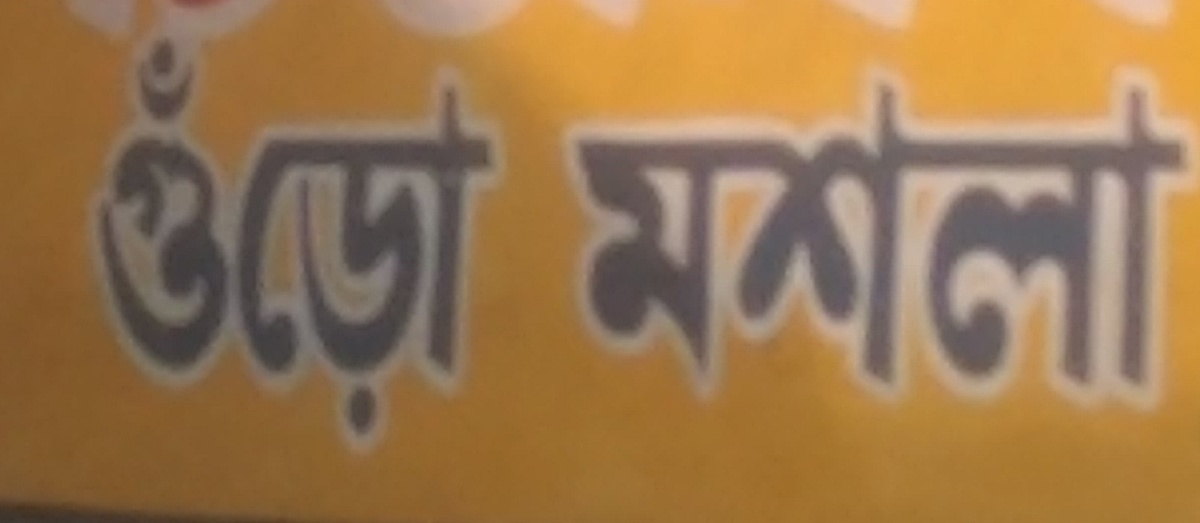text: (97, 26, 112, 460), (113, 26, 128, 460), (129, 26, 144, 460), (145, 26, 160, 460), (161, 26, 176, 460), (177, 26, 192, 460), (193, 26, 208, 460), (209, 26, 224, 460), (225, 26, 240, 460), (241, 26, 256, 460), (257, 26, 272, 460), (273, 26, 288, 460), (289, 26, 304, 460), (305, 26, 320, 460), (321, 26, 336, 460), (337, 26, 352, 460), (353, 26, 368, 460), (369, 26, 384, 460), (385, 26, 400, 460), (401, 26, 416, 460), (417, 26, 432, 460), (433, 26, 448, 460), (449, 26, 464, 460), (465, 26, 480, 460), (481, 26, 496, 460), (497, 26, 512, 460), (561, 52, 576, 425), (577, 52, 592, 425), (593, 52, 608, 425), (609, 52, 624, 425), (625, 52, 640, 425), (641, 52, 656, 425), (657, 52, 672, 425), (673, 52, 688, 425), (689, 52, 704, 425), (705, 52, 720, 425), (721, 52, 736, 425), (737, 52, 752, 425), (753, 52, 768, 425), (769, 52, 784, 425), (785, 52, 800, 425), (801, 52, 816, 425), (817, 52, 832, 425), (833, 52, 848, 425), (849, 52, 864, 425), (865, 52, 880, 425), (881, 52, 896, 425), (897, 52, 912, 425), (913, 52, 928, 425), (929, 52, 944, 425), (945, 52, 960, 425), (961, 52, 976, 425), (977, 52, 992, 425), (993, 52, 1008, 425), (1009, 52, 1024, 425), (1025, 52, 1040, 425), (1041, 52, 1056, 425), (1057, 52, 1072, 425), (1073, 52, 1088, 425), (1089, 52, 1104, 425), (1105, 52, 1120, 425), (1121, 52, 1136, 425), (1137, 52, 1152, 425), (1153, 52, 1168, 425), (1169, 52, 1184, 425), (1185, 52, 1199, 425), (87, 26, 96, 460), (552, 52, 560, 425), (65, 1, 80, 54), (81, 1, 96, 54), (97, 1, 112, 54), (113, 1, 128, 54), (129, 1, 144, 54), (145, 1, 160, 54), (161, 1, 176, 54), (177, 1, 192, 54), (193, 1, 208, 54), (209, 1, 224, 54), (225, 1, 240, 54), (241, 1, 256, 54), (257, 1, 272, 54), (273, 1, 288, 54), (385, 1, 400, 47), (401, 1, 416, 47), (417, 1, 432, 47), (433, 1, 448, 47), (449, 1, 464, 47), (465, 1, 480, 47), (481, 1, 496, 47), (497, 1, 512, 47), (513, 1, 527, 47), (52, 1, 64, 54), (577, 1, 592, 43), (593, 1, 608, 43), (609, 1, 624, 43), (625, 1, 640, 43), (833, 1, 848, 39), (849, 1, 864, 39), (865, 1, 880, 39), (881, 1, 896, 39), (897, 1, 912, 39), (913, 1, 928, 39), (1169, 1, 1185, 34), (1089, 1, 1104, 34), (1105, 1, 1120, 34), (1121, 1, 1136, 34), (1137, 1, 1152, 34), (1153, 1, 1168, 34), (513, 26, 514, 460), (567, 1, 576, 43), (377, 1, 384, 47), (289, 1, 292, 54), (828, 1, 832, 39), (1084, 1, 1088, 34), (641, 1, 644, 43)
